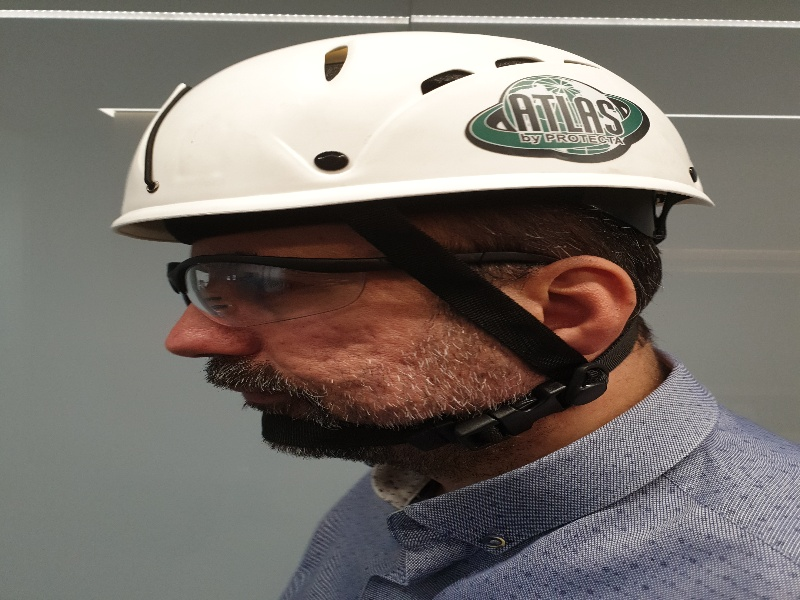Baret: (110, 30, 716, 220)
Gozluk: (161, 253, 551, 329)
